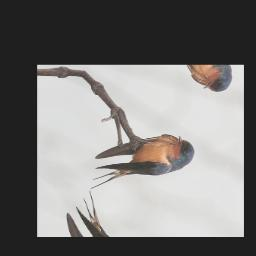Swallow: (82, 108, 201, 221)
